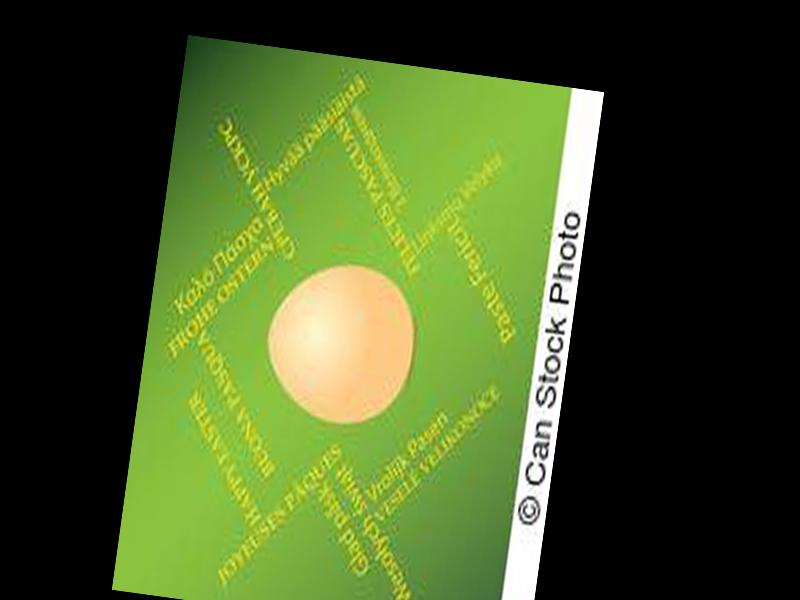Eggs: (258, 257, 422, 431)
